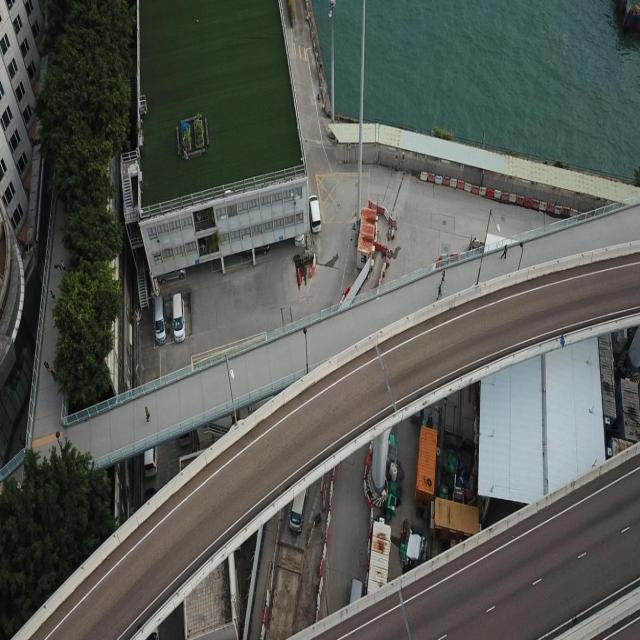p3rson: (50, 369, 57, 383), (501, 243, 507, 259), (436, 284, 442, 300), (144, 405, 150, 421), (61, 258, 66, 276), (50, 289, 56, 304), (44, 359, 50, 374), (441, 270, 445, 285)
